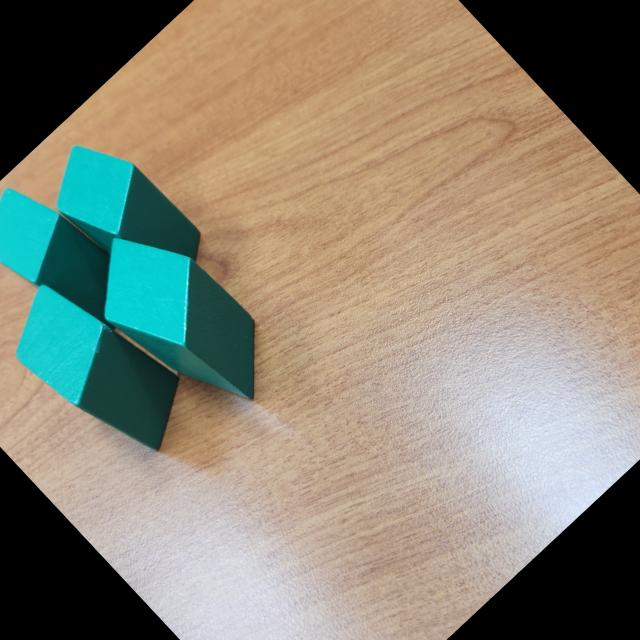green: (68, 204, 294, 436), (0, 257, 208, 479), (32, 122, 215, 308), (0, 166, 149, 359)
